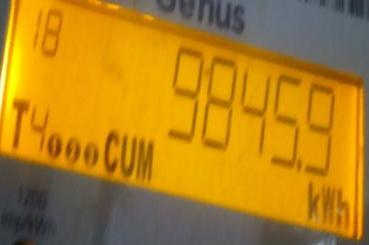.: (304, 181, 355, 237)
0: (295, 158, 302, 170)
5: (234, 69, 278, 161)
6: (266, 75, 304, 170)
9: (198, 54, 240, 156)
:: (301, 85, 344, 180), (167, 46, 206, 143)
